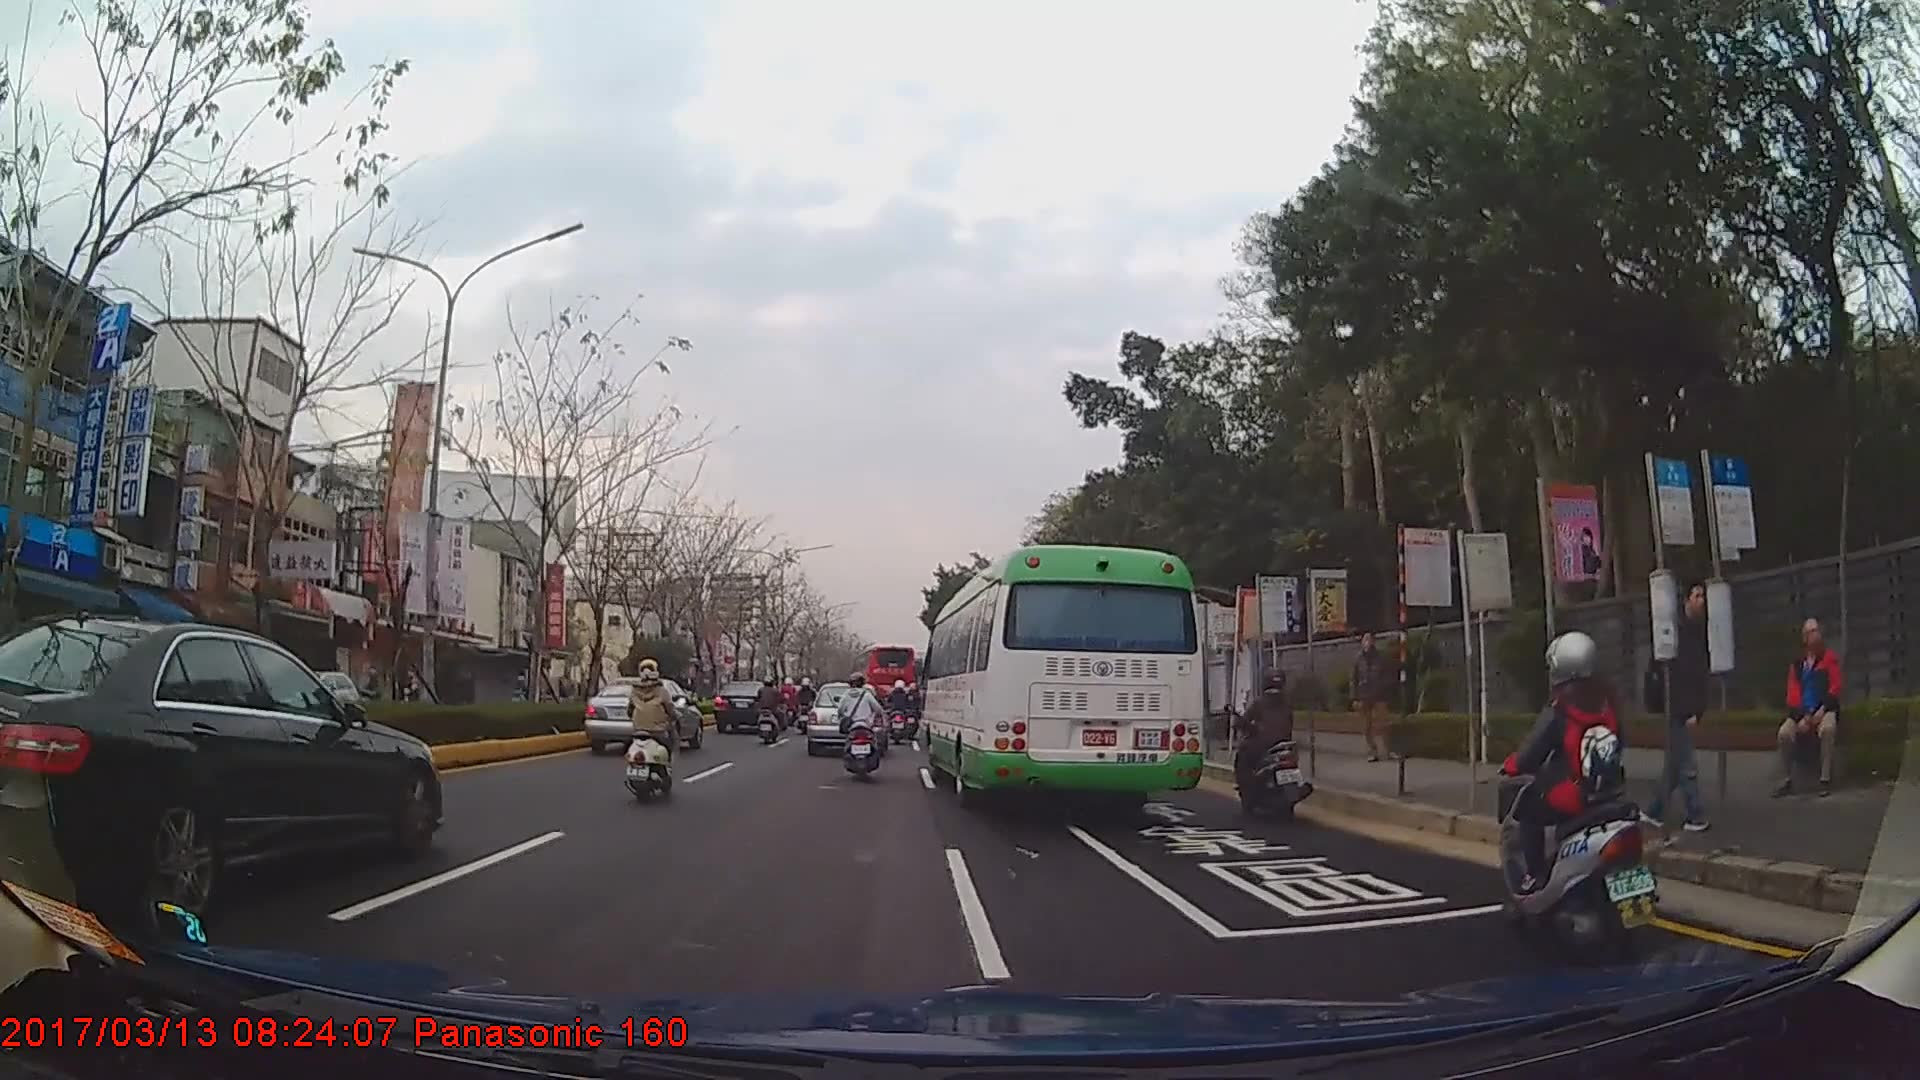pedestrian: (1642, 581, 1725, 846), (1775, 619, 1845, 803), (1348, 631, 1401, 762)
rider: (1490, 631, 1656, 940), (1223, 677, 1311, 823), (623, 663, 680, 807), (834, 679, 883, 786), (757, 678, 784, 748), (886, 680, 914, 736), (795, 679, 817, 727), (360, 668, 383, 706), (398, 670, 422, 703), (511, 675, 531, 704)
vehicle: (0, 616, 440, 921), (917, 544, 1204, 821), (582, 677, 703, 754), (806, 681, 885, 759), (848, 644, 915, 715), (714, 681, 785, 739)
